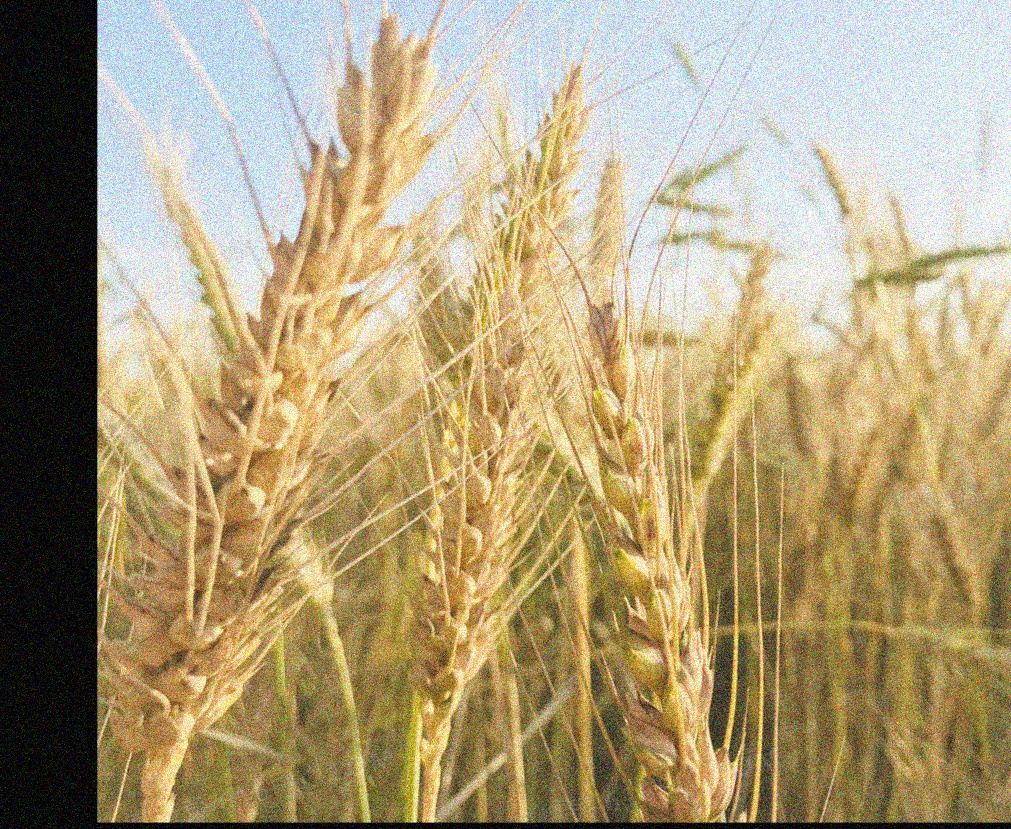wheat: (122, 40, 424, 767), (416, 122, 559, 738), (587, 320, 757, 819)
